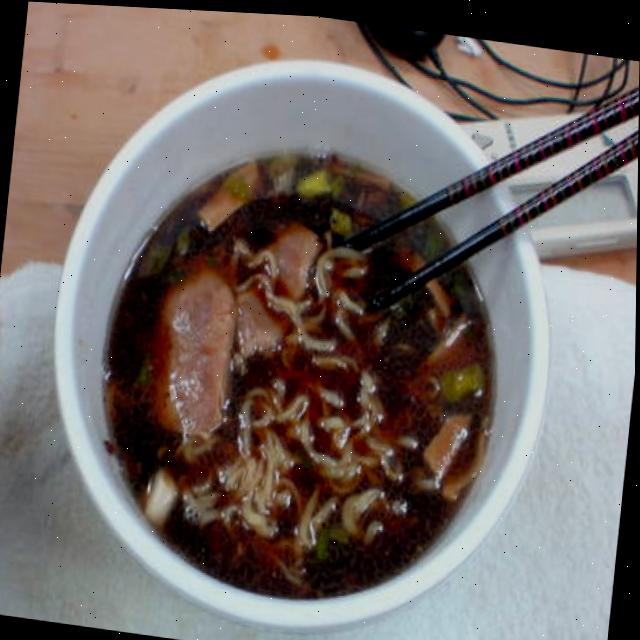面条主食: (24, 16, 576, 640)
